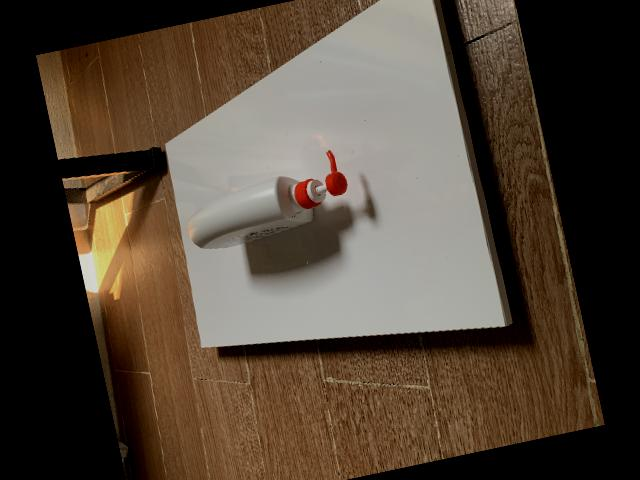life-buoy: (187, 149, 348, 248)
